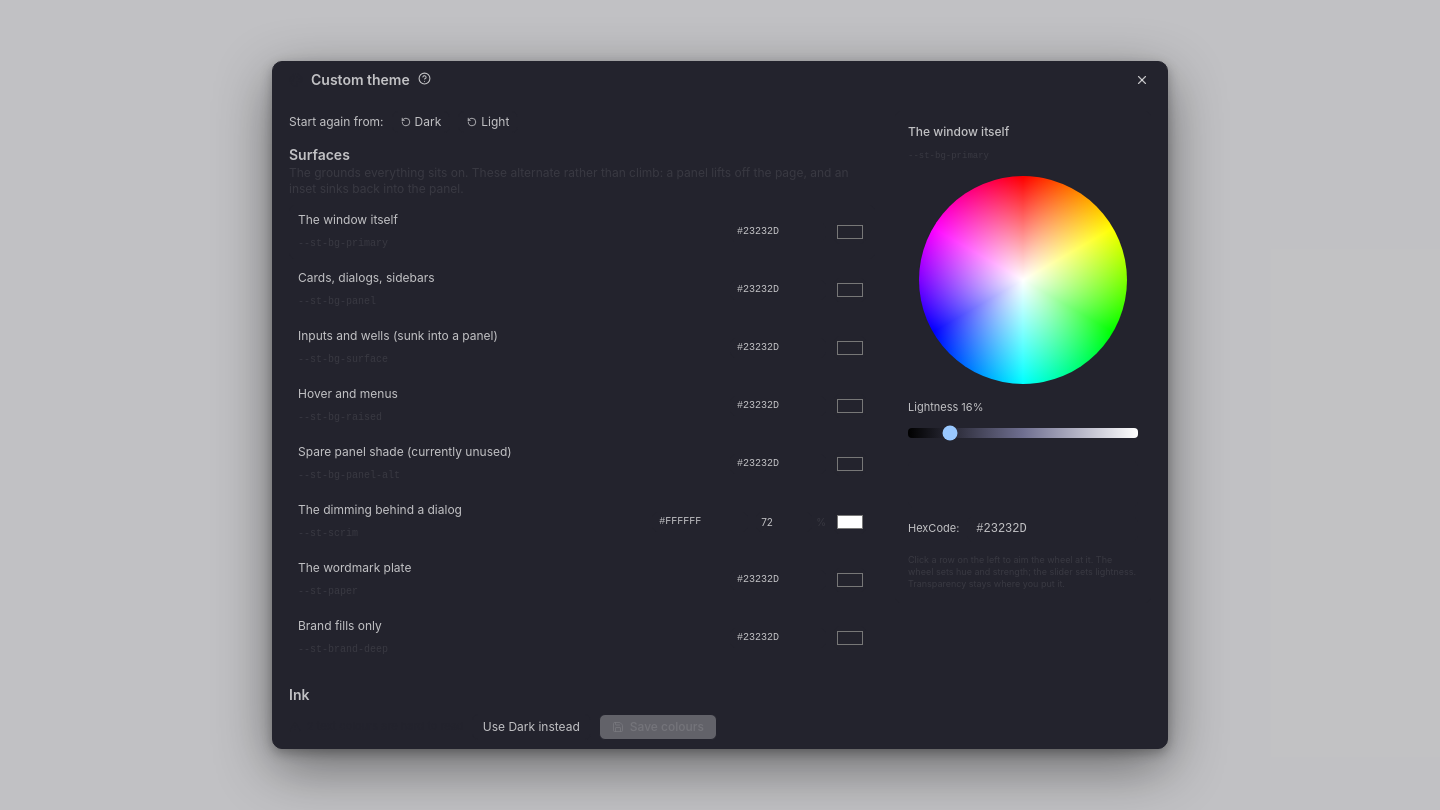
the readability warning › warns rather than refusing -- it is the writer's app
Replace the text in the field named "The window itself hex" with "#111111" at (778, 232), box [730,222,826,242]
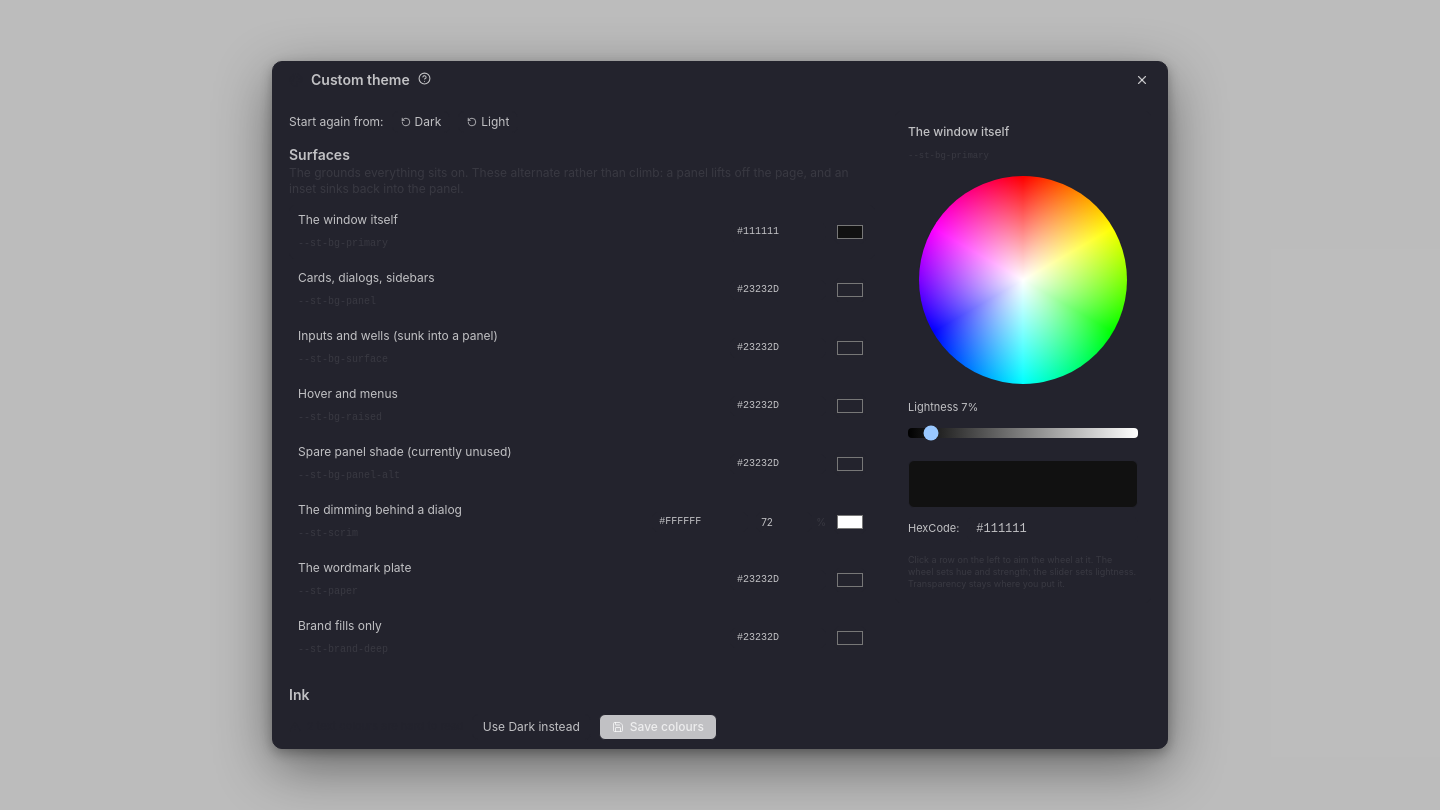
Now the button "Save colours" is enabled, box [599,714,717,740]
